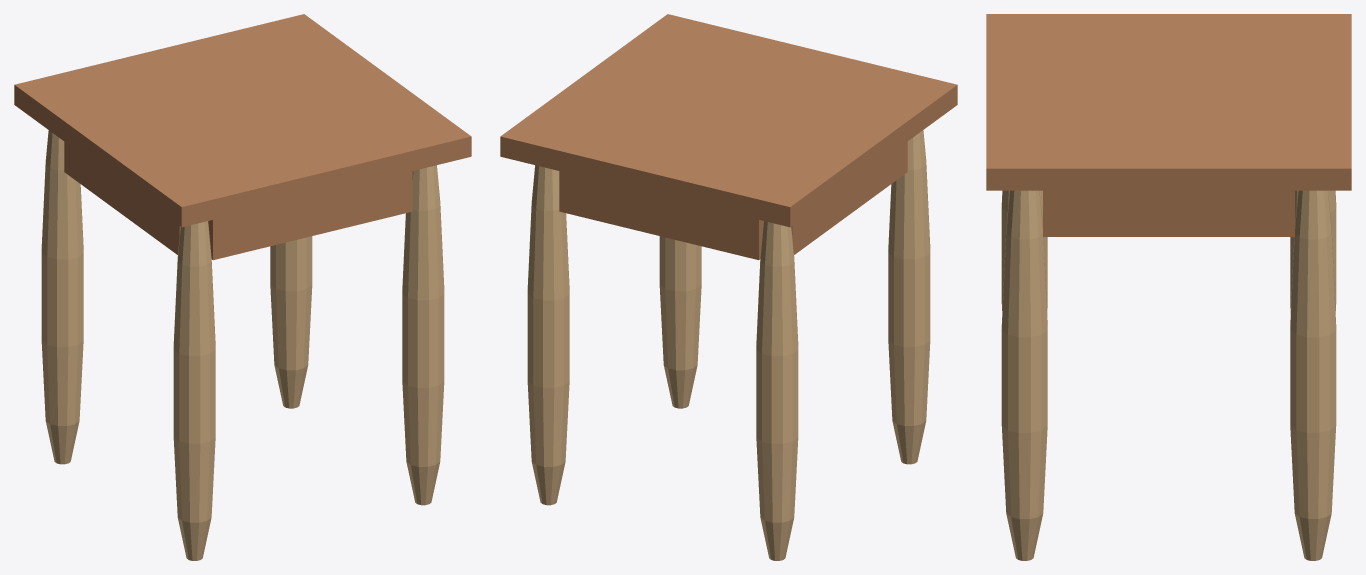
The model's file is CAL-SID-std.glb.
3 views of the same model, side by side, from view 1: azimuth 30°, elevation 25°; view 2: azimuth 150°, elevation 25°; view 3: azimuth 270°, elevation 25° (orthographic). The views are drawn at different scales.
Parts seen in each view (by area): view 1: top:pbr, leg-fl:pbr, leg-fr:pbr, leg-bl:pbr, apron-f:pbr, leg-br:pbr, apron-l:pbr; view 2: top:pbr, leg-bl:pbr, leg-br:pbr, leg-fl:pbr, apron-b:pbr, leg-fr:pbr, apron-l:pbr; view 3: top:pbr, leg-fr:pbr, leg-br:pbr, apron-r:pbr, leg-fl:pbr, leg-bl:pbr.
Part boxes in pixels (x1,y1,x2,y2): top:pbr: (14,14,471,227); leg-fl:pbr: (173,221,215,560); leg-fr:pbr: (402,165,444,505); leg-bl:pbr: (41,130,83,464); apron-f:pbr: (208,171,412,260); leg-br:pbr: (270,236,312,408); apron-l:pbr: (64,142,180,254); top:pbr: (500,14,957,227); leg-bl:pbr: (756,221,798,560); leg-br:pbr: (527,165,569,505); leg-fl:pbr: (888,130,930,464); apron-b:pbr: (559,171,763,260); leg-fr:pbr: (659,236,701,408); apron-l:pbr: (791,142,907,254); top:pbr: (986,14,1351,190); leg-fr:pbr: (1001,190,1047,560); leg-br:pbr: (1290,190,1336,560); apron-r:pbr: (1043,190,1294,236); leg-fl:pbr: (1001,190,1047,312); leg-bl:pbr: (1290,190,1336,312).
Bounding box in the file's own units: 0.45 × 0.55 × 0.45.
